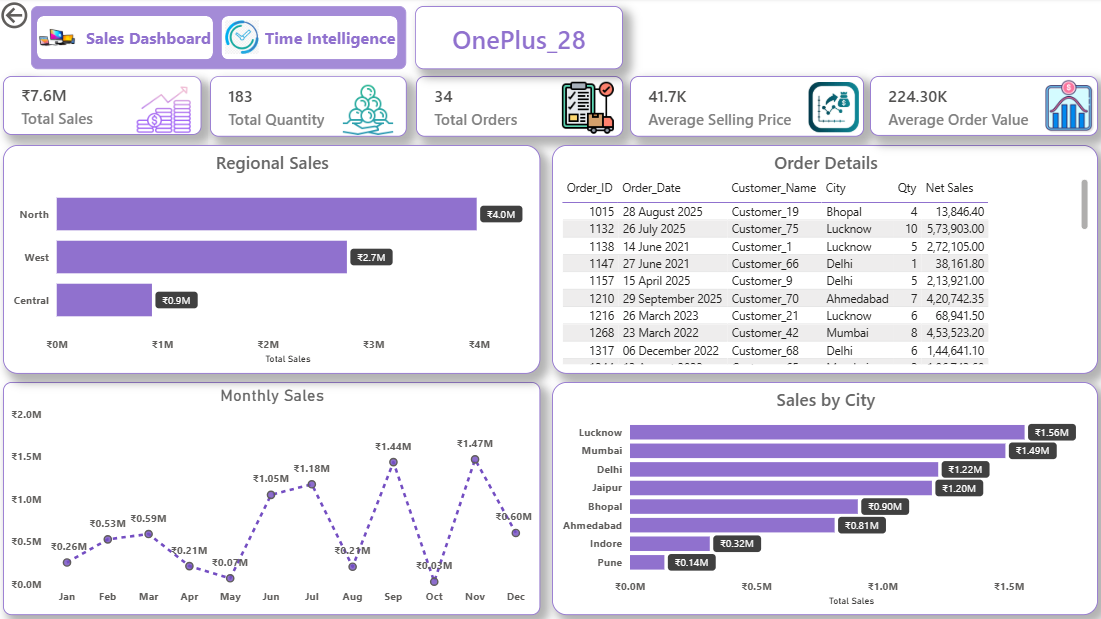

What the dashboard file says about the page in this screenshot:
{"tool":"powerbi","page":{"name":"Product Details","canvas":[1280,720],"ordinal":2},"visuals":[{"type":"actionButton","box":[0,0,100,40],"z":0},{"type":"cardVisual","fields":{"Data":["Sales_Fact.Total Sales"]},"box":[6.8,90.5,228.6,68.1],"z":1000},{"type":"cardVisual","fields":{"Data":["Sales_Fact.Total Quantity"]},"box":[246.1,90.5,226.6,70],"z":2000},{"type":"cardVisual","fields":{"Data":["Sales_Fact.Total Orders"]},"box":[483.4,90.5,239.3,70],"z":3000},{"type":"cardVisual","fields":{"Data":["Sales_Fact.Average Selling Price"]},"box":[730.5,90.5,270.4,70],"z":4000},{"type":"image","box":[156.6,97.3,71,64.2],"z":5000},{"type":"image","box":[383.2,98.2,89.5,62.2],"z":6000},{"type":"image","box":[650.7,94.3,62.2,64.2],"z":7000},{"type":"image","box":[933.7,97.3,64.2,58.4],"z":8000},{"type":"lineChart","title":"Monthly Sales","fields":{"Y":["Sales_Fact.Total Sales"],"Category":["New Calendar.Month Short"]},"box":[6.8,443.5,619.6,269.4],"z":9000},{"type":"clusteredBarChart","title":"Regional Sales","fields":{"Y":["Sales_Fact.Total Sales"],"Category":["Region.Region"]},"box":[6.8,169.2,619.6,263.6],"z":10000},{"type":"tableEx","title":"Order Details","fields":{"Values":["Sales_Fact.Order_ID","Sales_Fact.Order_Date","Customers.Customer_Name","Region.City","Sales_Fact.Qty","Sales_Fact.Net Sales"]},"box":[640,169.2,630.3,263.6],"z":11000},{"type":"cardVisual","fields":{"Data":["Sales_Fact.Average Order Value"]},"box":[1007.7,90.5,262.6,69.1],"z":12000},{"type":"image","box":[1204.1,93.4,66.1,63.2],"z":13000},{"type":"clusteredBarChart","title":"Sales by City","fields":{"Category":["Region.City"],"Y":["Sales_Fact.Total Sales"]},"box":[640,443.5,630.3,269.4],"z":14000},{"type":"cardVisual","fields":{"Data":["Sales_Fact.Selected Product"]},"box":[482,9,240,73],"z":15000},{"type":"shape","box":[39,9,433,73],"z":16000},{"type":"pageNavigator","box":[46,21,416,50],"z":17000},{"type":"image","box":[46,21,47,50],"z":18000},{"type":"image","box":[263,20,39,51],"z":19000}]}

Visuals, with their boxes in screenshot pixels (x1, y1, x2, y2), scaled from the page's 1280x720 canvas onto the 1101x619 screenshot:
actionButton: bbox=[0, 0, 86, 34]
cardVisual - Sales_Fact.Total Sales: bbox=[6, 78, 202, 136]
cardVisual - Sales_Fact.Total Quantity: bbox=[212, 78, 407, 138]
cardVisual - Sales_Fact.Total Orders: bbox=[416, 78, 622, 138]
cardVisual - Sales_Fact.Average Selling Price: bbox=[628, 78, 861, 138]
image: bbox=[135, 84, 196, 139]
image: bbox=[330, 84, 407, 138]
image: bbox=[560, 81, 613, 136]
image: bbox=[803, 84, 858, 134]
"Monthly Sales" lineChart: bbox=[6, 381, 539, 613]
"Regional Sales" clusteredBarChart: bbox=[6, 145, 539, 372]
"Order Details" tableEx: bbox=[550, 145, 1093, 372]
cardVisual - Sales_Fact.Average Order Value: bbox=[867, 78, 1093, 137]
image: bbox=[1036, 80, 1093, 135]
"Sales by City" clusteredBarChart: bbox=[550, 381, 1093, 613]
cardVisual - Sales_Fact.Selected Product: bbox=[415, 8, 621, 70]
shape: bbox=[34, 8, 406, 70]
pageNavigator: bbox=[40, 18, 397, 61]
image: bbox=[40, 18, 80, 61]
image: bbox=[226, 17, 260, 61]
